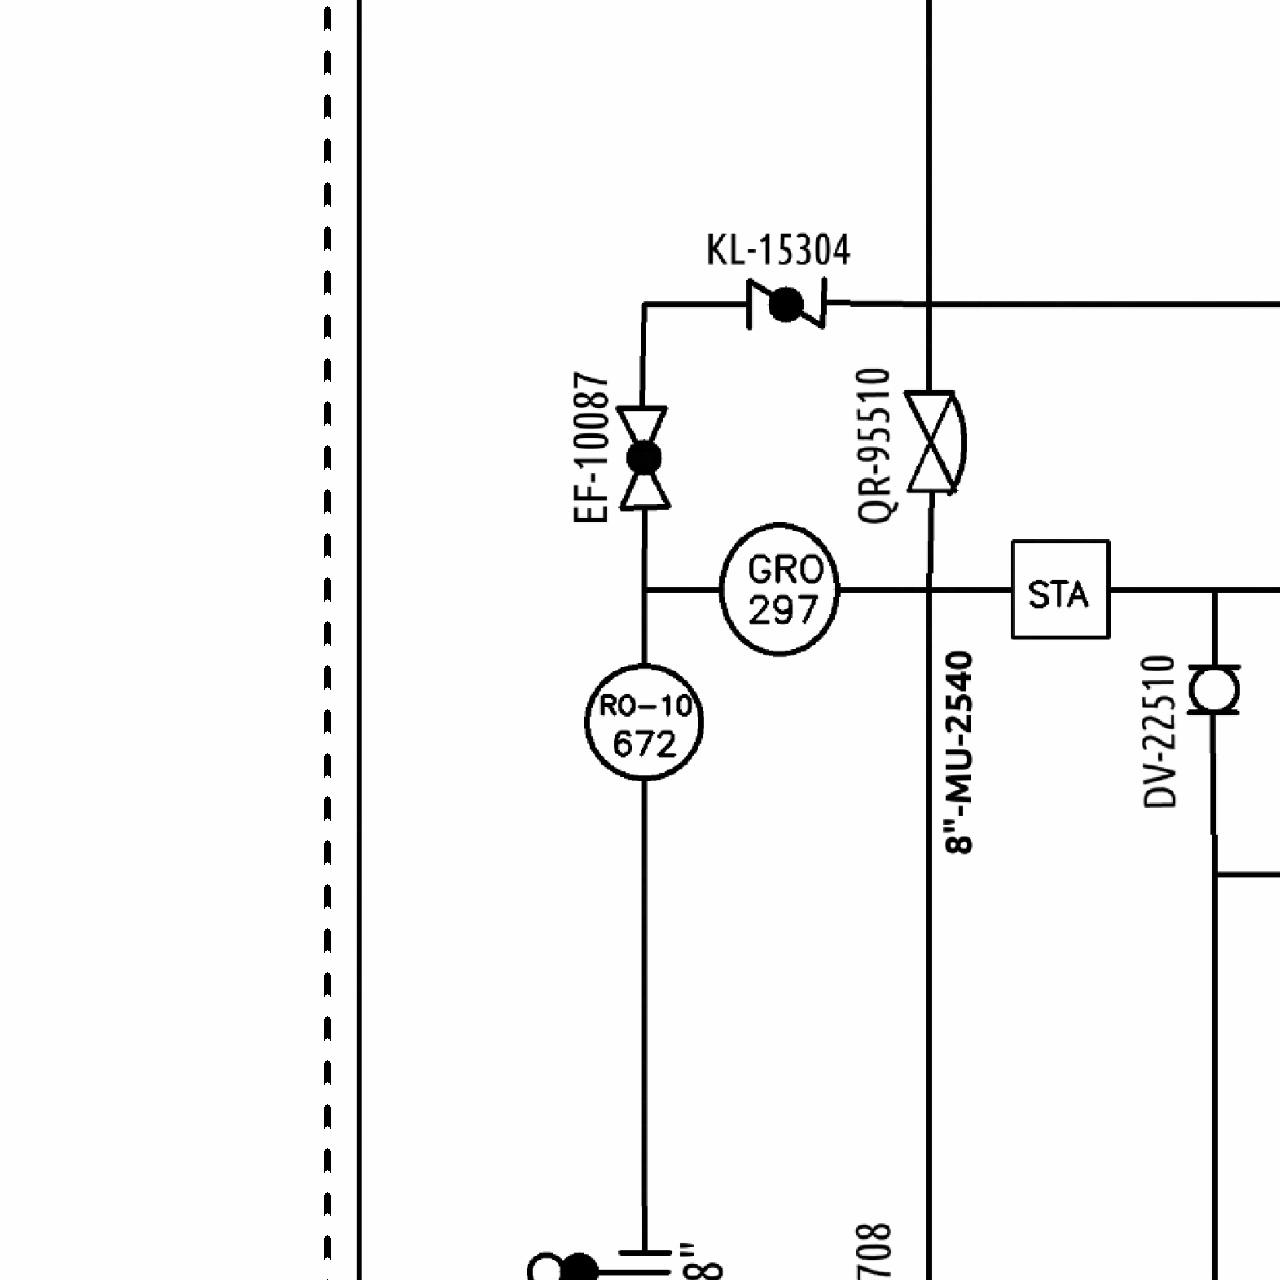Control-Panel: (579, 658, 707, 785)
